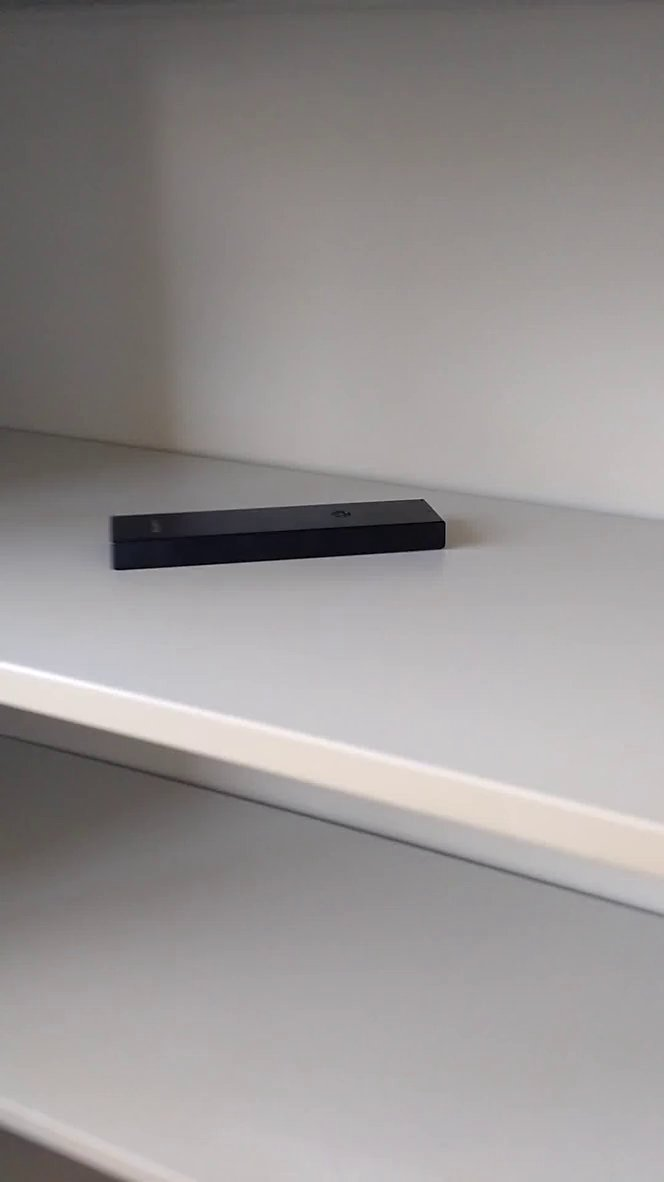remote: (101, 487, 457, 585)
